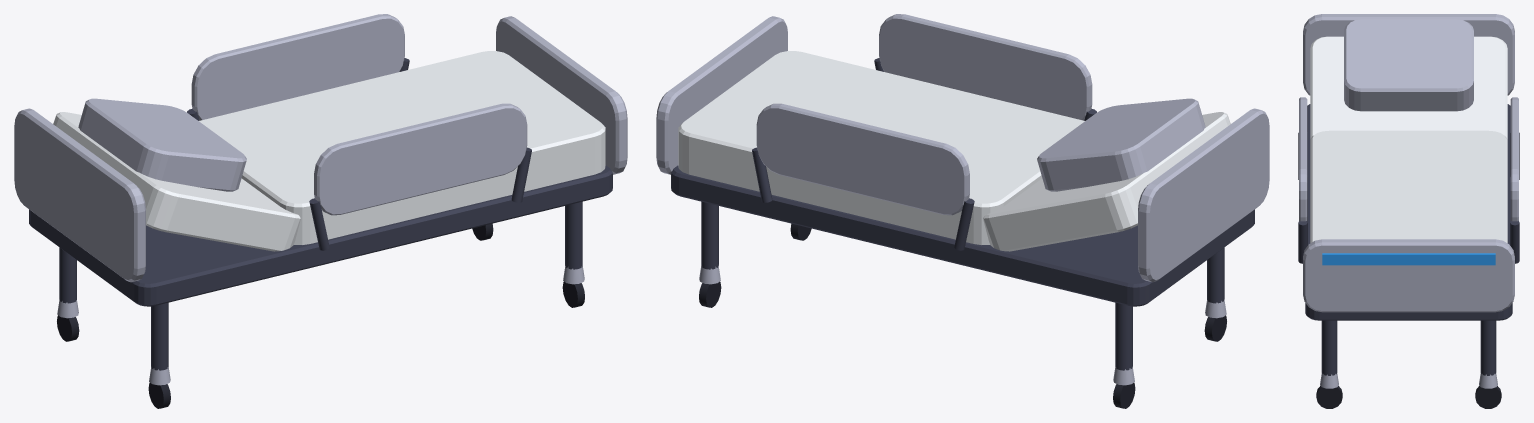
File: hospital_bed.glb
The picture shows the model from 3 angles, left to right: view 1: azimuth 30°, elevation 25°; view 2: azimuth 150°, elevation 25°; view 3: azimuth 270°, elevation 25°; orthographic projection. The views are drawn at different scales.
Parts seen in each view (by area): view 1: bed_mattress, bed_deck, bed_rail_1, bed_headboard, bed_rail_0, bed_pillow, bed_backrest, bed_footboard, bed_leg_01, bed_leg_11, bed_leg_00, bed_rail_arm_1 (+1 smaller); view 2: bed_mattress, bed_deck, bed_rail_0, bed_headboard, bed_rail_1, bed_pillow, bed_backrest, bed_footboard, bed_leg_00, bed_leg_10, bed_leg_01, bed_rail_arm_0 (+1 smaller); view 3: bed_mattress, bed_footboard, bed_pillow, bed_backrest, bed_headboard, bed_deck, bed_footboard_accent, bed_rail_0, bed_rail_1, bed_leg_10, bed_leg_11, bed_caster_10 (+5 smaller).
Part boxes in pixels (<box>): bed_mattress: <box>199,51,605,244</box>; bed_deck: <box>29,165,612,306</box>; bed_rail_1: <box>314,103,527,215</box>; bed_headboard: <box>14,108,145,282</box>; bed_rail_0: <box>191,14,404,120</box>; bed_pillow: <box>78,98,246,191</box>; bed_backrest: <box>53,112,300,251</box>; bed_footboard: <box>496,16,627,174</box>; bed_leg_01: <box>151,302,168,370</box>; bed_leg_11: <box>565,201,582,269</box>; bed_leg_00: <box>59,247,76,303</box>; bed_rail_arm_1: <box>309,198,329,250</box>; bed_mattress: <box>678,51,1084,244</box>; bed_deck: <box>671,165,1254,306</box>; bed_rail_0: <box>756,103,969,215</box>; bed_headboard: <box>1138,108,1269,282</box>; bed_rail_1: <box>879,14,1092,120</box>; bed_pillow: <box>1037,98,1205,191</box>; bed_backrest: <box>983,112,1230,251</box>; bed_footboard: <box>656,16,787,174</box>; bed_leg_00: <box>1115,302,1132,370</box>; bed_leg_10: <box>701,201,718,269</box>; bed_leg_01: <box>1207,247,1224,303</box>; bed_rail_arm_0: <box>954,198,974,250</box>; bed_mattress: <box>1310,130,1507,242</box>; bed_footboard: <box>1303,239,1514,312</box>; bed_pillow: <box>1344,19,1473,111</box>; bed_backrest: <box>1310,36,1507,138</box>; bed_headboard: <box>1303,14,1514,95</box>; bed_deck: <box>1305,104,1512,320</box>; bed_footboard_accent: <box>1322,253,1495,265</box>; bed_rail_0: <box>1510,97,1518,221</box>; bed_rail_1: <box>1299,97,1307,221</box>; bed_leg_10: <box>1480,320,1496,375</box>; bed_leg_11: <box>1321,320,1337,375</box>; bed_caster_10: <box>1475,386,1501,408</box>.
Size of the model in its own units: 2.06 by 0.9853 by 0.92.
